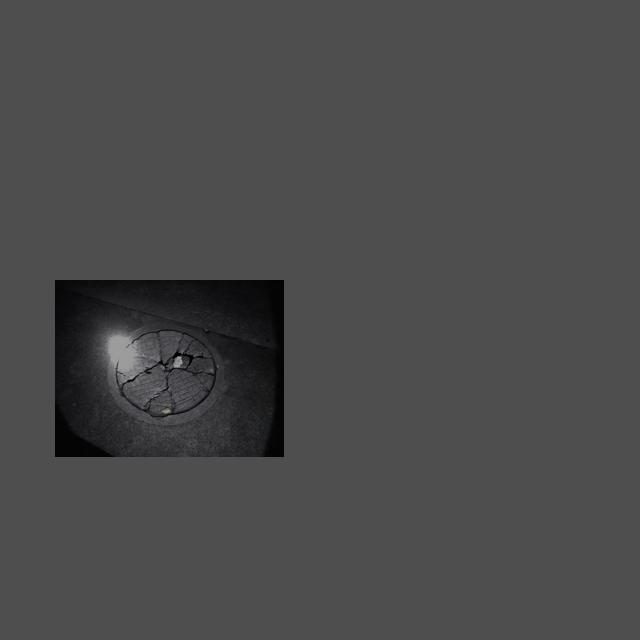broke: (102, 325, 228, 421)
